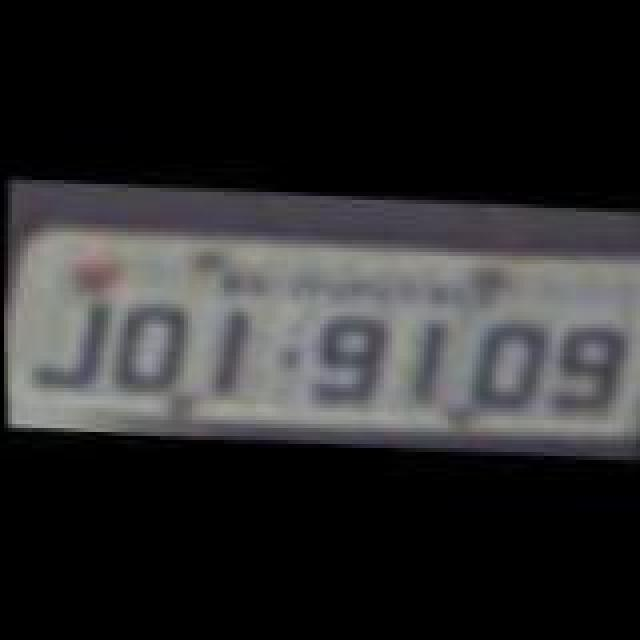1: (202, 304, 254, 404), (404, 318, 452, 414)
9: (546, 322, 630, 422), (308, 316, 388, 412)
J: (38, 302, 114, 394)
O: (108, 302, 188, 402), (470, 312, 546, 416)
